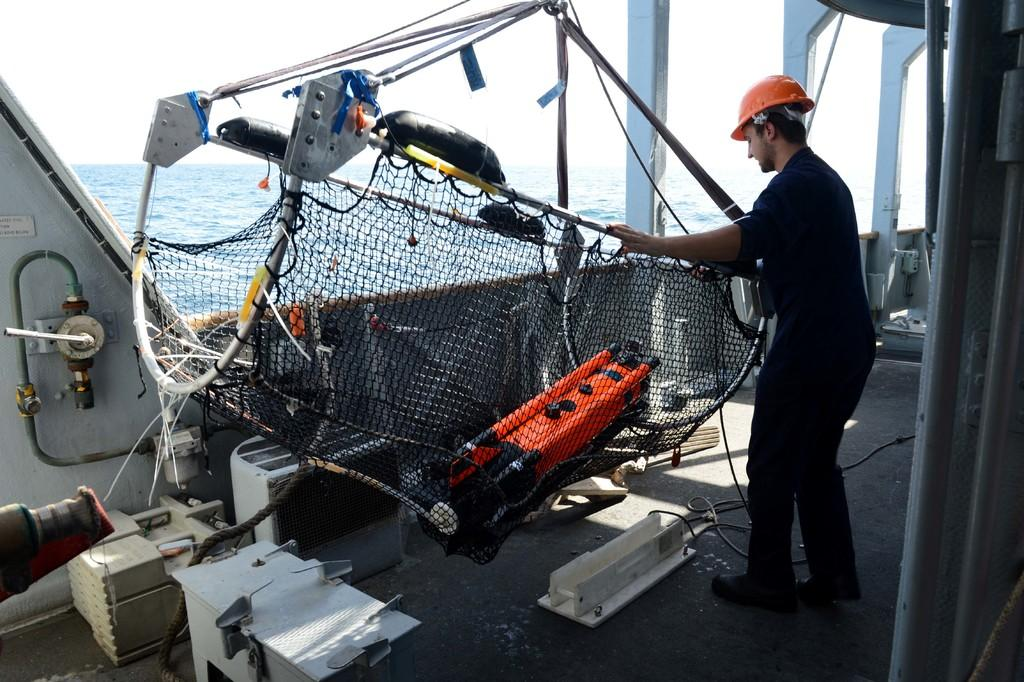helmet: (730, 75, 815, 171)
